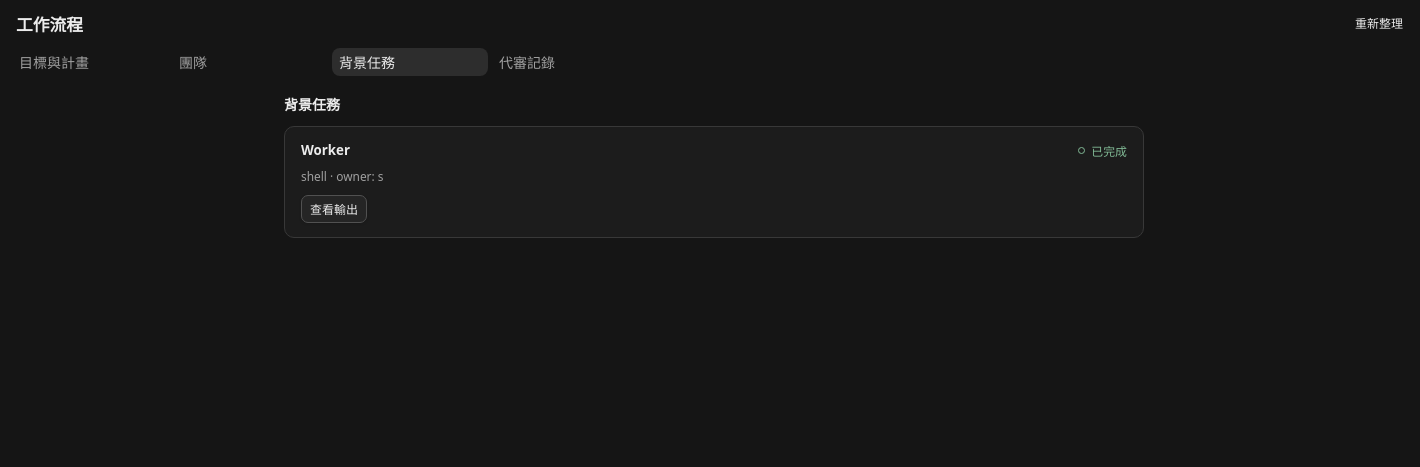
Test: retains a recorded truncation notice when the returned job text is empty
Step 1. Click the button "查看輸出" → (334, 210), box 301,196 -> 367,224
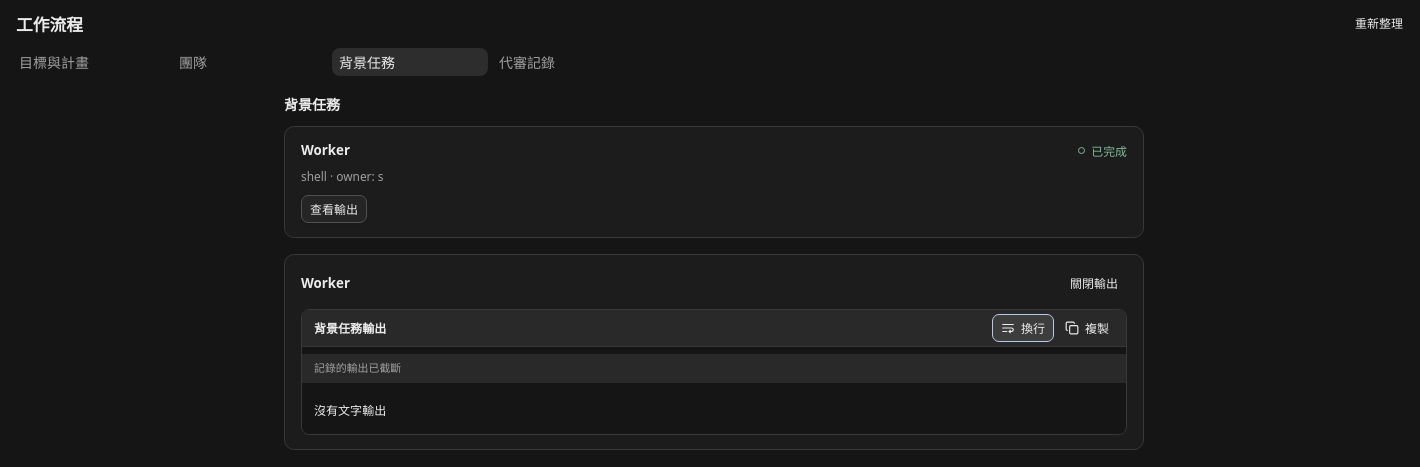
Check: the text "記錄的輸出已截斷" is shown, box 302,354 -> 1126,383
